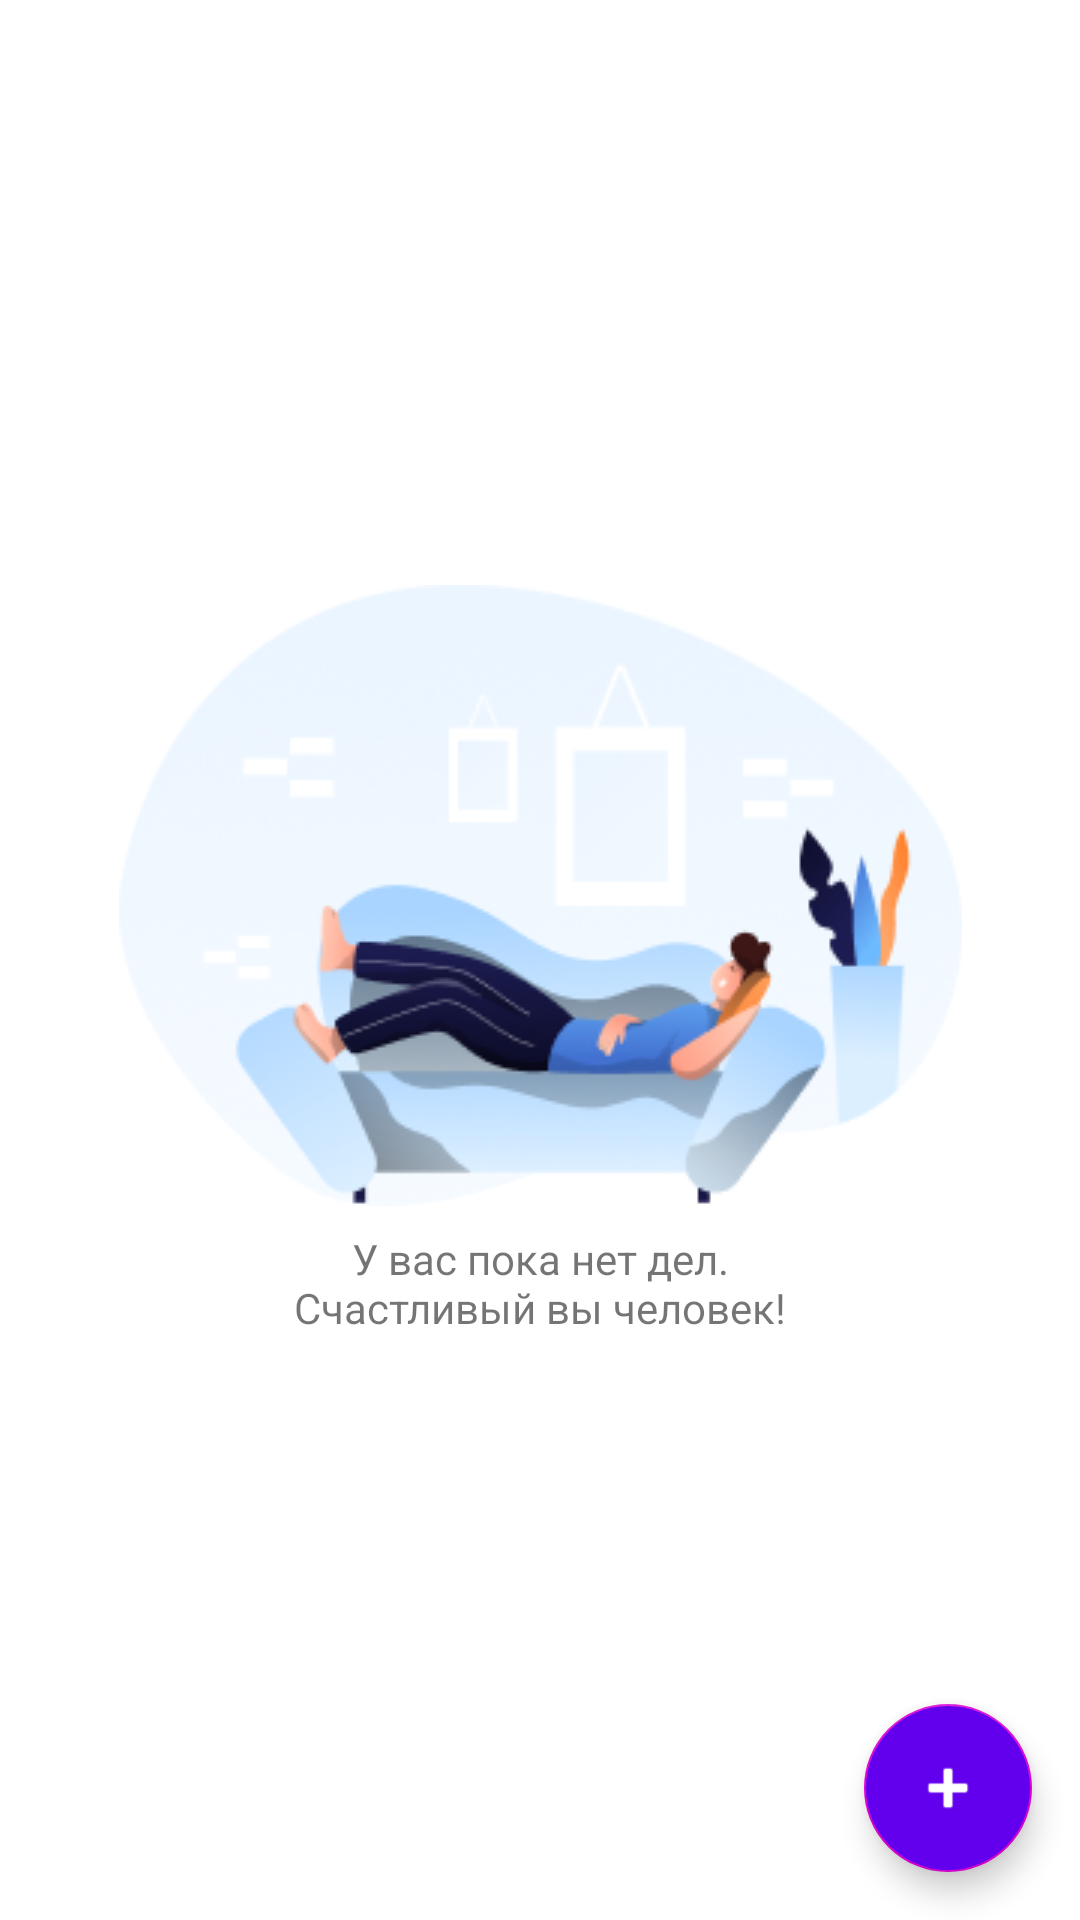

Where to tap for icons on this 1080*1920 app screen, as point (x, y):
Добавить новую заметку: point (948, 1788)
